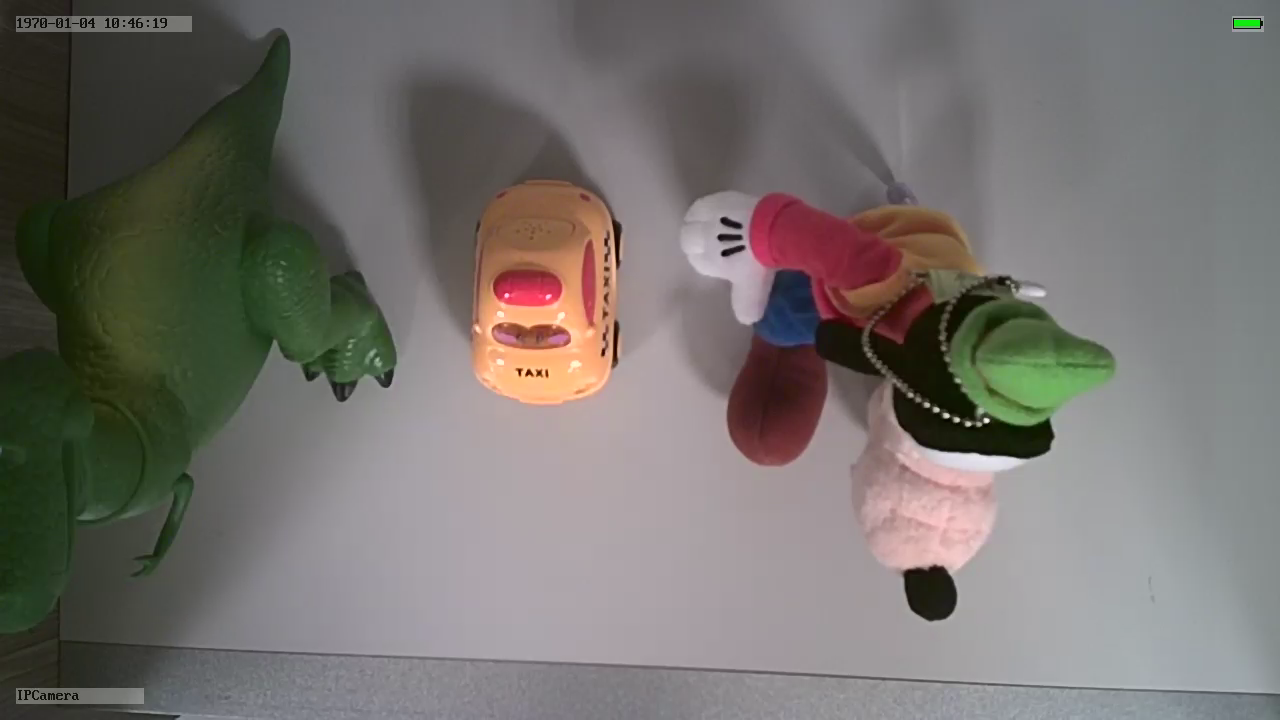goofy: (683, 178, 1119, 633)
